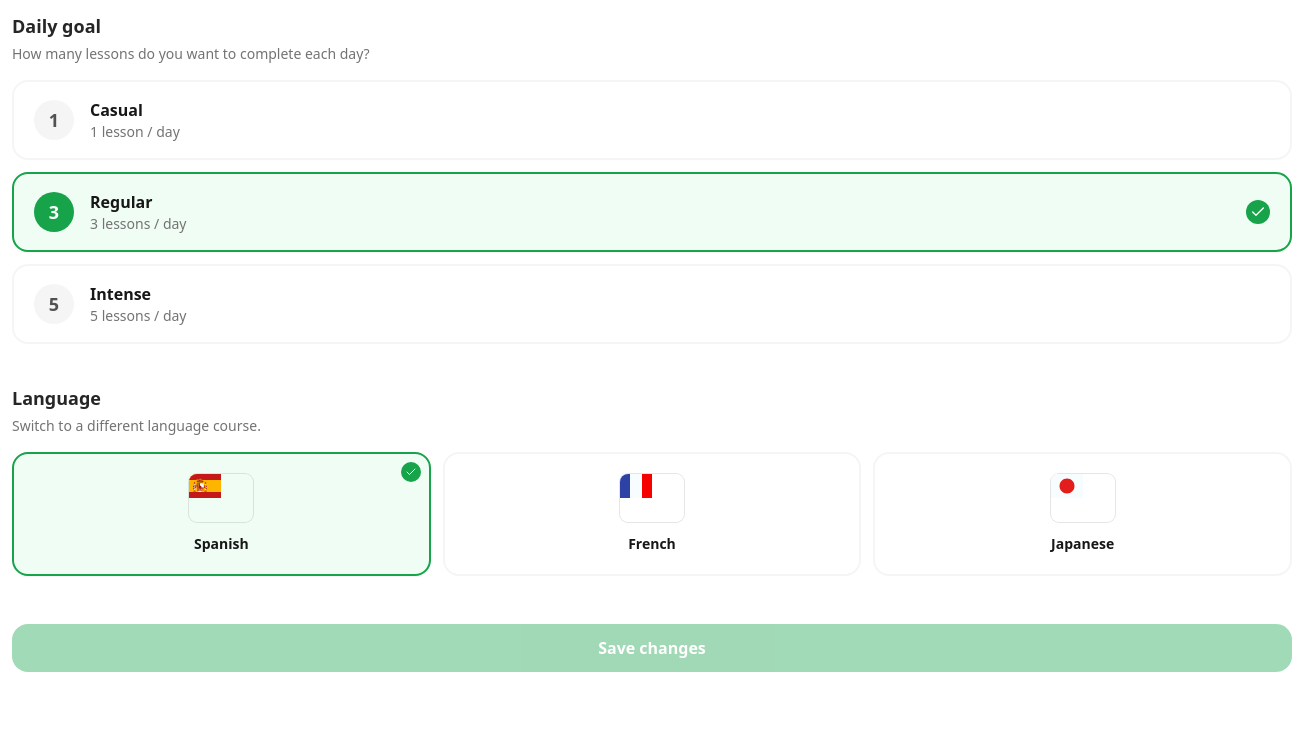
Test: SettingsForm › should disable Save button when selection matches current values
Change to Casual then back to Regular
Click the button "1 Casual 1 lesson / day" at [54, 120], box [12, 80, 1292, 160]
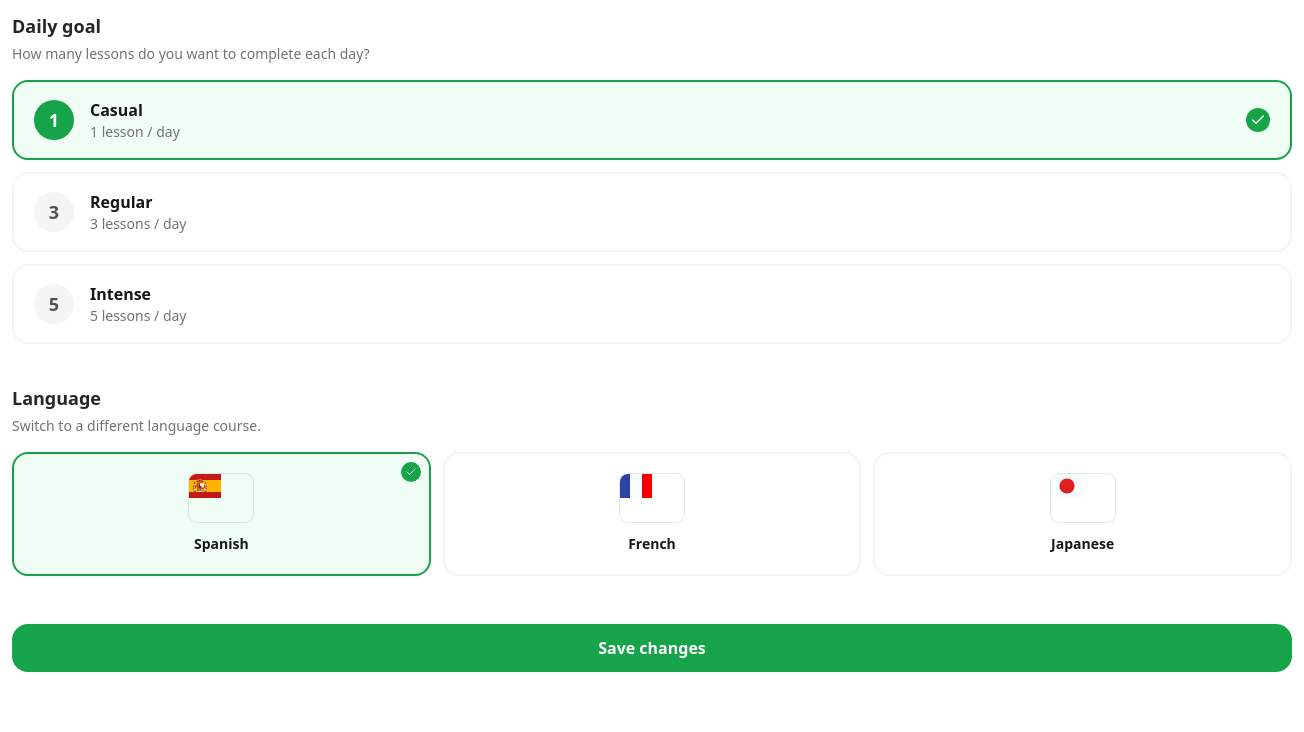
Click the button "3 Regular 3 lessons / day" at [54, 212], box [12, 172, 1292, 252]
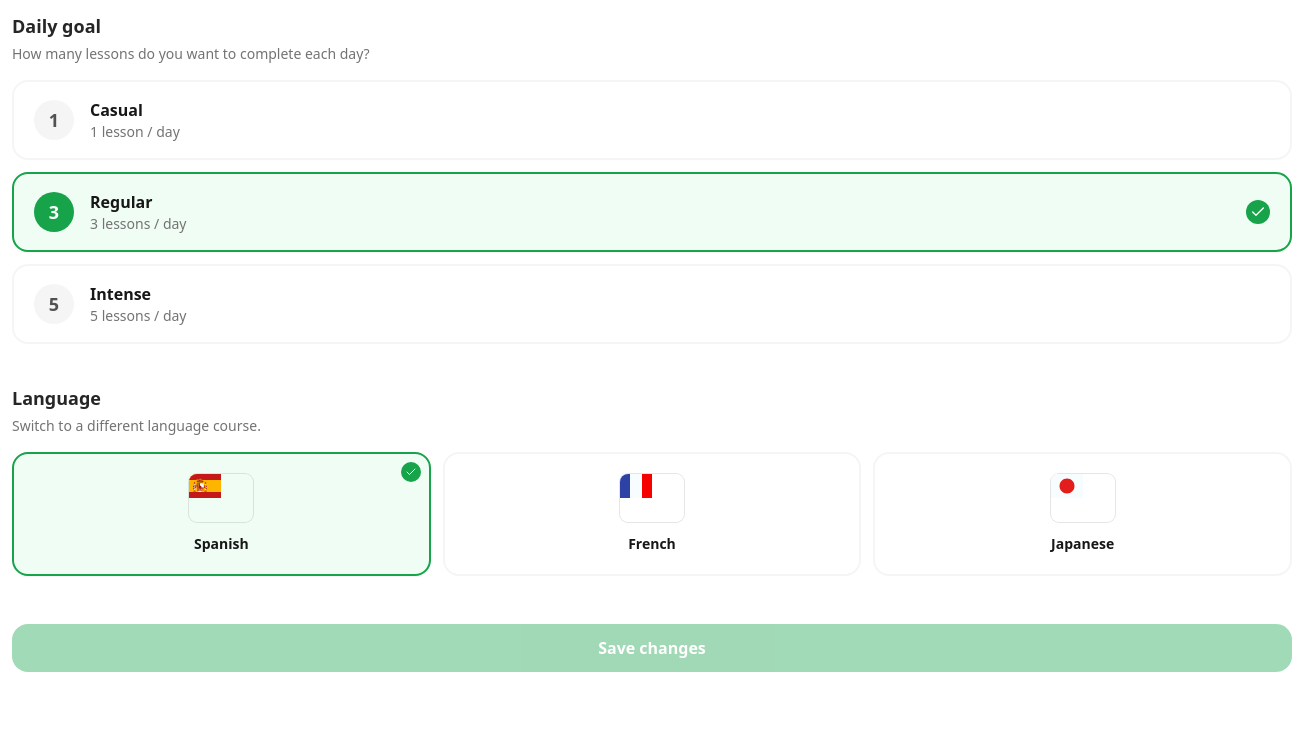
Expected: the button "Save changes" is disabled, [12, 624, 1292, 672]
